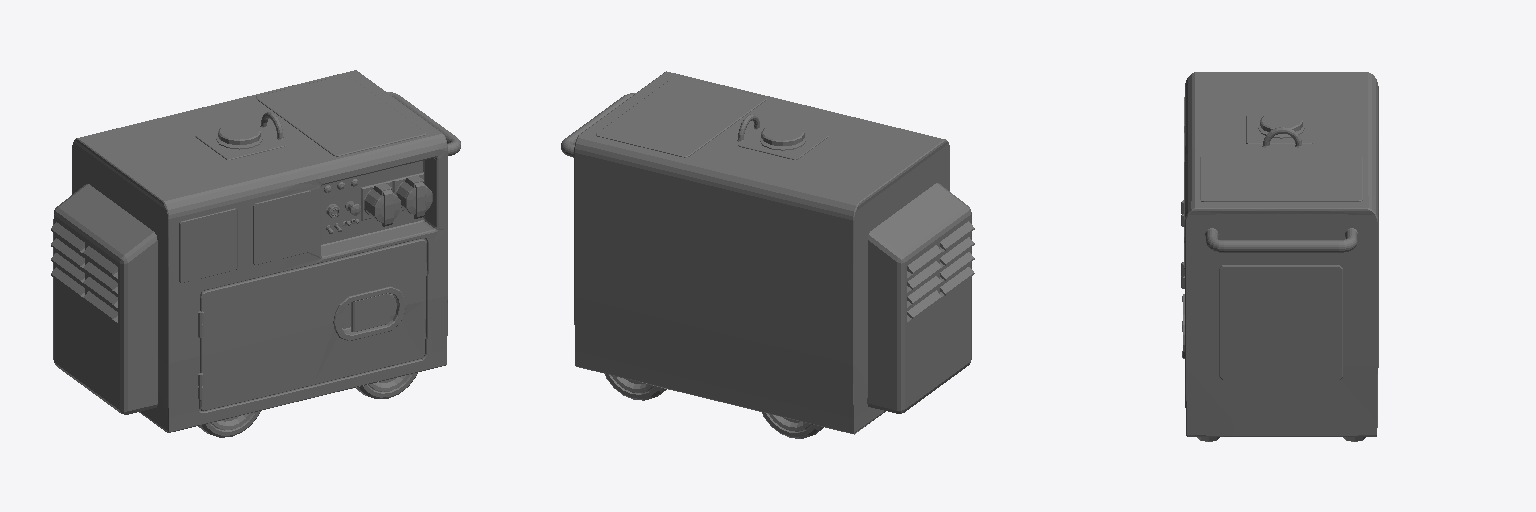
3 renders of one model, left to right at view 1: azimuth 30°, elevation 25°; view 2: azimuth 150°, elevation 25°; view 3: azimuth 270°, elevation 25°, orthographic.
Visible parts, largest first — view 1: polySurface52.001_meshId0_name; view 2: polySurface52.001_meshId0_name; view 3: polySurface52.001_meshId0_name.
Part boxes in pixels (left/top/right/bottom): polySurface52.001_meshId0_name: left=51, top=70, right=460, bottom=437; polySurface52.001_meshId0_name: left=561, top=71, right=974, bottom=438; polySurface52.001_meshId0_name: left=1181, top=72, right=1378, bottom=441.
Bounding box in the file's own units: 2.81 × 2.1 × 1.37.